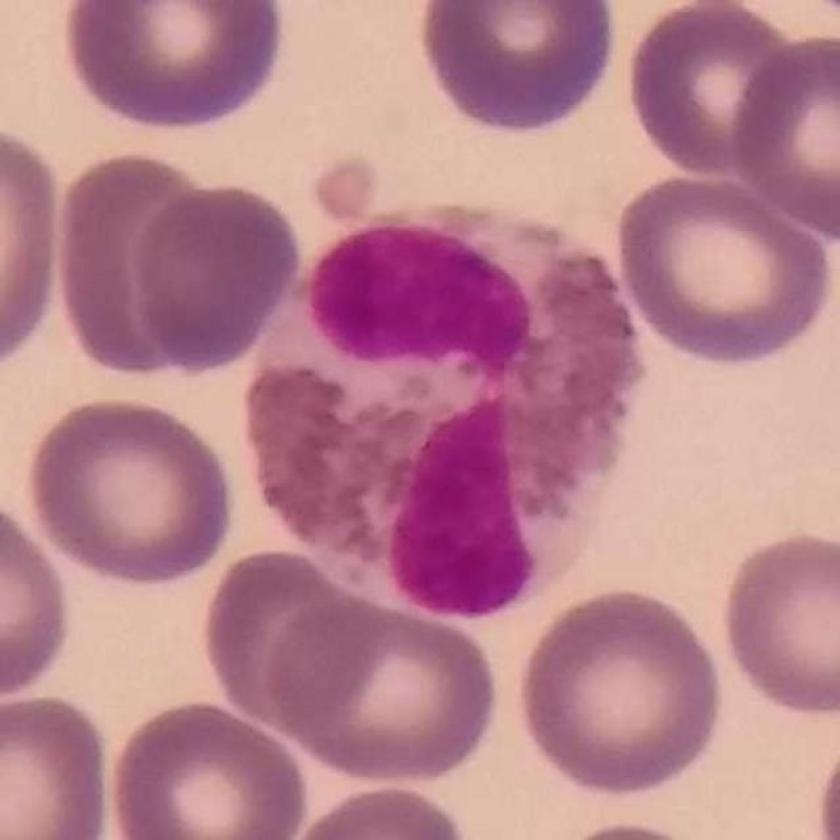eosinophil: (248, 201, 643, 617)
